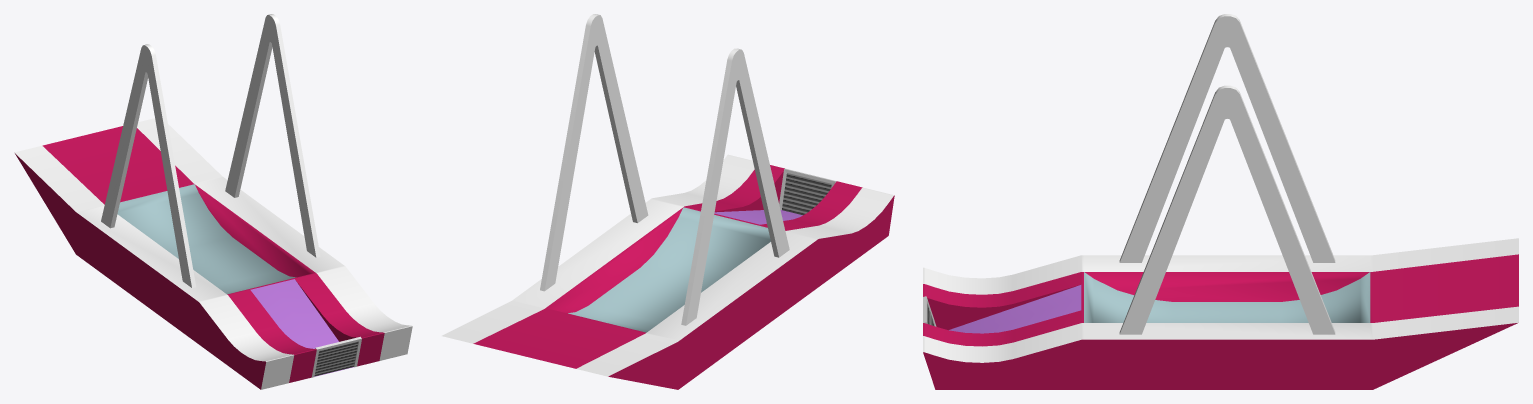
Rendered from BigWheelBase.fbx.
3 renders of one model, left to right at view 1: azimuth 30°, elevation 25°; view 2: azimuth 150°, elevation 25°; view 3: azimuth 270°, elevation 25°, orthographic. The views are drawn at different scales.
Parts seen in each view (by area): view 1: BigWheelBase, BigWheelAnchors, BigWheelsEntry.001, BigWheelsEntry; view 2: BigWheelBase, BigWheelAnchors, BigWheelsEntry.001, BigWheelsEntry; view 3: BigWheelBase, BigWheelAnchors.
Boxes of the visible parts, box(x1,y1,x2,y2) form: BigWheelBase: box(14, 118, 412, 389); BigWheelAnchors: box(101, 14, 320, 288); BigWheelsEntry.001: box(314, 341, 358, 376); BigWheelsEntry: box(311, 336, 361, 377); BigWheelBase: box(442, 154, 894, 389); BigWheelAnchors: box(540, 14, 789, 325); BigWheelsEntry.001: box(782, 173, 831, 214); BigWheelsEntry: box(779, 168, 836, 209); BigWheelBase: box(923, 238, 1518, 389); BigWheelAnchors: box(1119, 14, 1335, 334).
Size of what is drawn, in the model's own units: 193 by 574 by 316.
